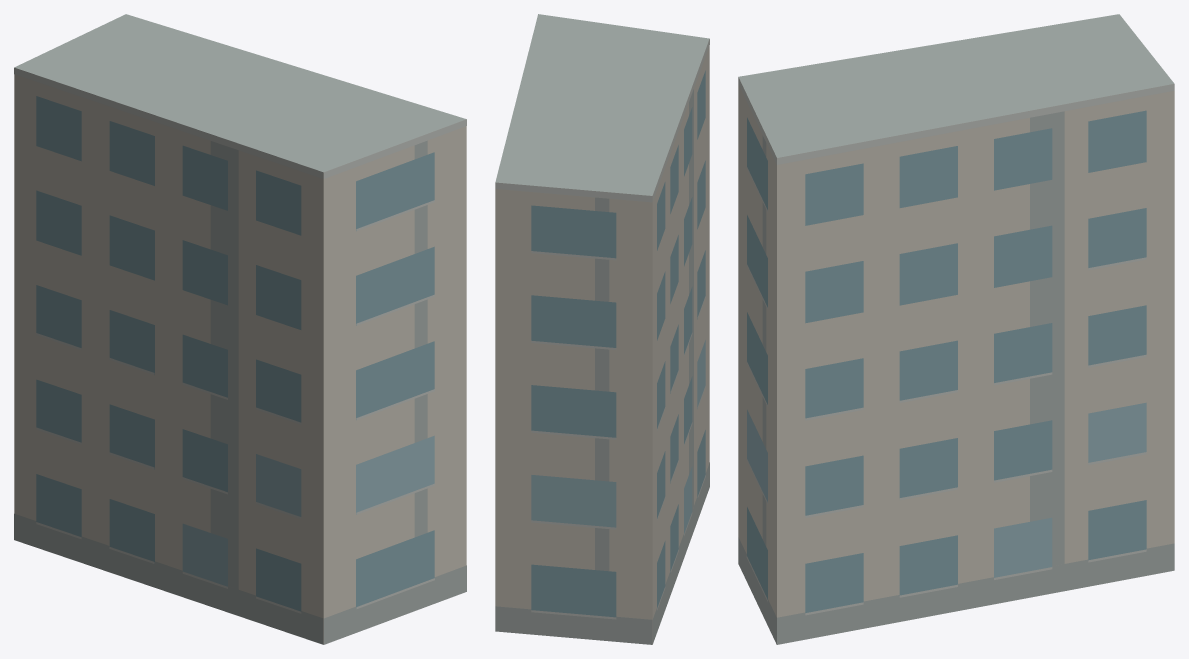
File: survey-upis-32832849.glb
3 renders of one model, left to right at view 1: azimuth 30°, elevation 25°; view 2: azimuth 150°, elevation 25°; view 3: azimuth 270°, elevation 25°, orthographic. The views are drawn at different scales.
Parts seen in each view (by area): view 1: survey-upis-32832849.tmp; view 2: survey-upis-32832849.tmp; view 3: survey-upis-32832849.tmp.
Part boxes in pixels (x1,y1,x2,y2): survey-upis-32832849.tmp: (14,14,466,644); survey-upis-32832849.tmp: (495,14,709,644); survey-upis-32832849.tmp: (738,14,1174,644).
Size of the model in its own units: 10.8 by 17 by 13.82.
